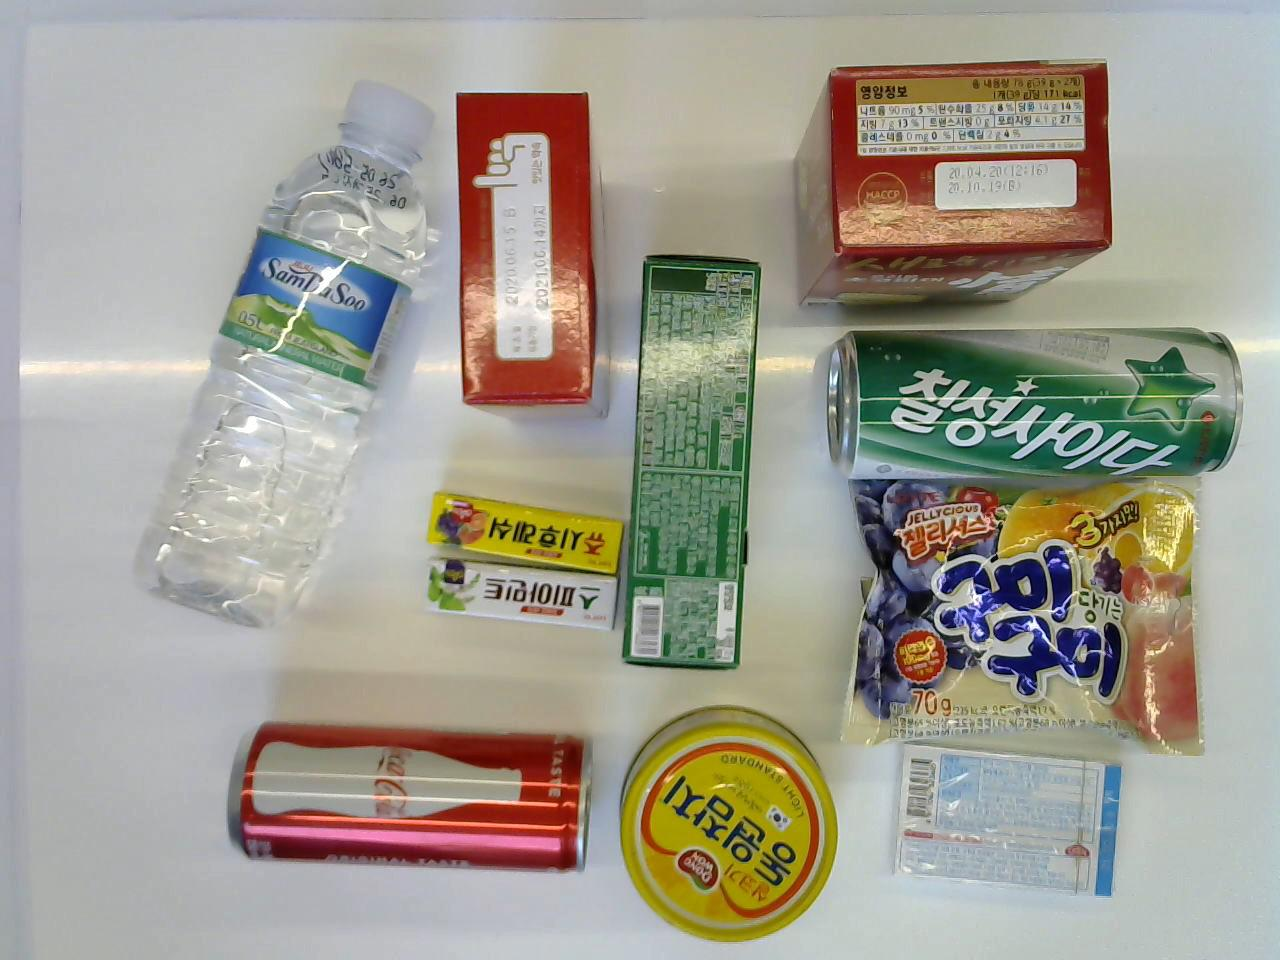ID_gum: (873, 737, 1130, 903)
chocopie: (783, 52, 1118, 318)
cidar: (814, 320, 1248, 476)
coke: (225, 718, 597, 888)
couque_coffee: (620, 248, 767, 669)
couque_white: (450, 81, 614, 426)
gumi_gumi: (826, 467, 1233, 754)
juicyfresh: (432, 492, 624, 578)
samdasu: (132, 76, 436, 639)
spearmint: (430, 558, 620, 633)
tuna: (611, 700, 842, 954)
